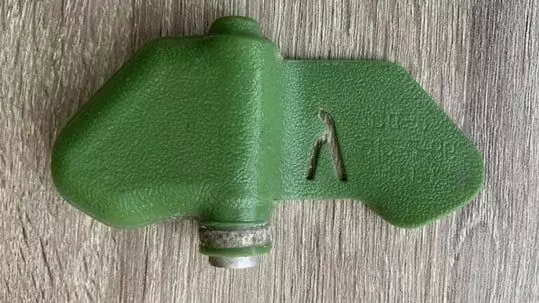butterfly: (36, 11, 494, 282)
